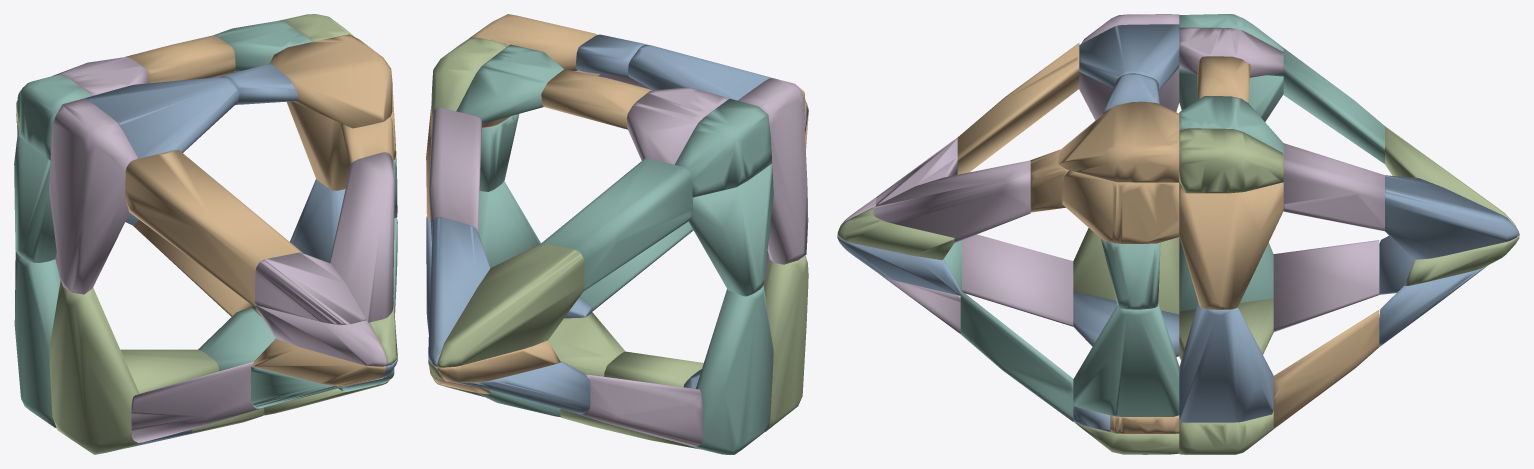
3 renders of one model, left to right at view 1: azimuth 30°, elevation 25°; view 2: azimuth 150°, elevation 25°; view 3: azimuth 270°, elevation 25°, orthographic. The views are drawn at different scales.
Size of the model in its own units: 1.05 by 1.04 by 2.
